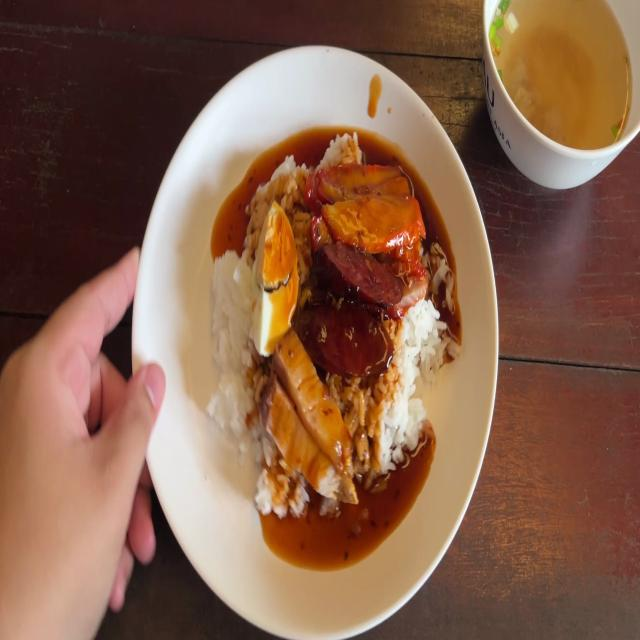01boiled_egg: (252, 199, 292, 351)
01chainese_sausage: (313, 246, 399, 371), (300, 292, 395, 373), (321, 253, 401, 298)
01crispy_pork: (268, 338, 352, 497), (279, 339, 347, 461), (266, 389, 338, 504)
01red_pork: (310, 162, 425, 262), (305, 197, 421, 260), (318, 156, 416, 197)
01red_pork_and_crispy_pork: (211, 130, 459, 531)
01rice: (378, 311, 438, 446), (213, 257, 246, 438), (270, 158, 304, 192)
